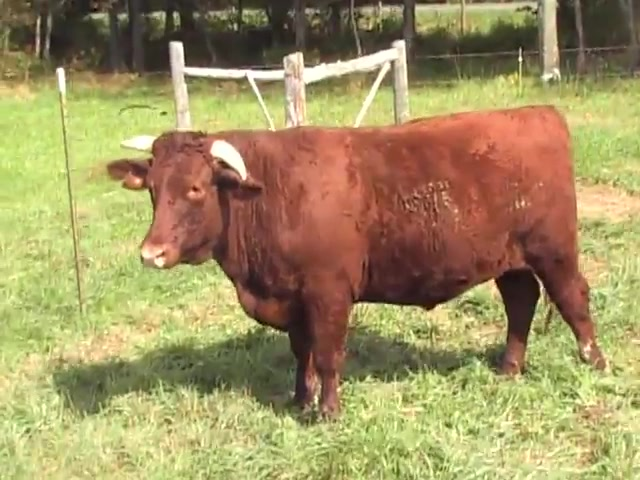cow: (106, 105, 607, 420)
